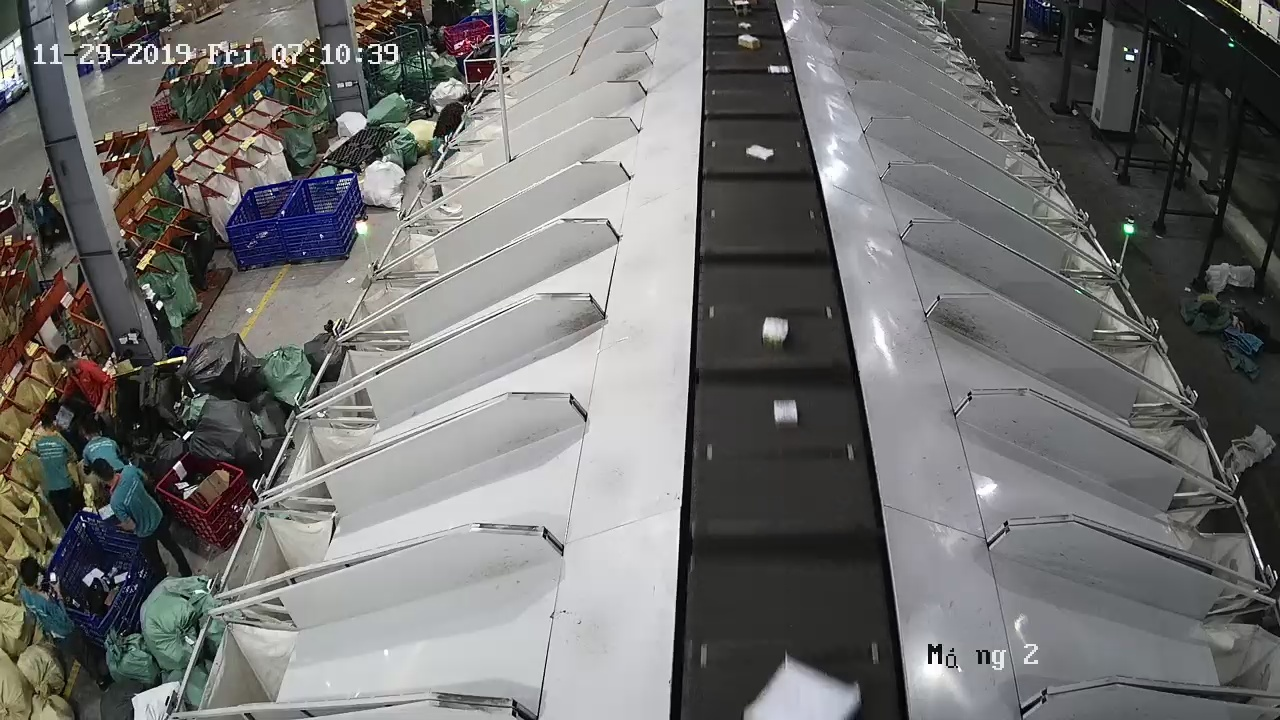parcel: (761, 316, 789, 350), (773, 399, 798, 429), (745, 144, 775, 162)
